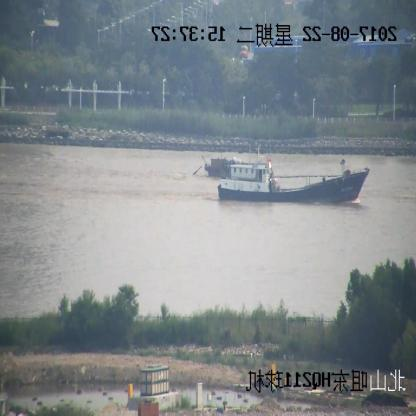Fishing Boat: (218, 161, 368, 201), (193, 158, 245, 181)
